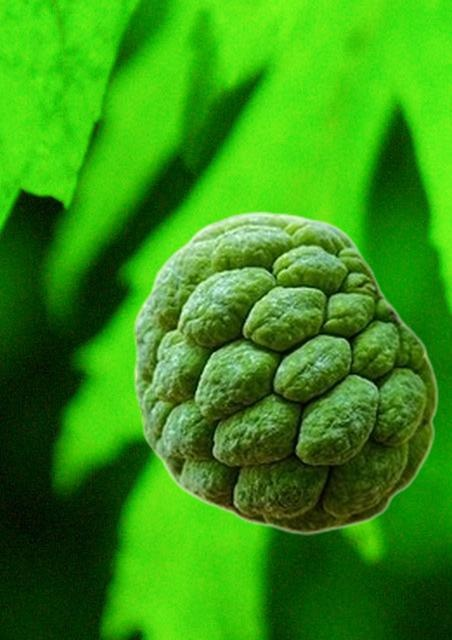atis: (133, 210, 438, 534)
